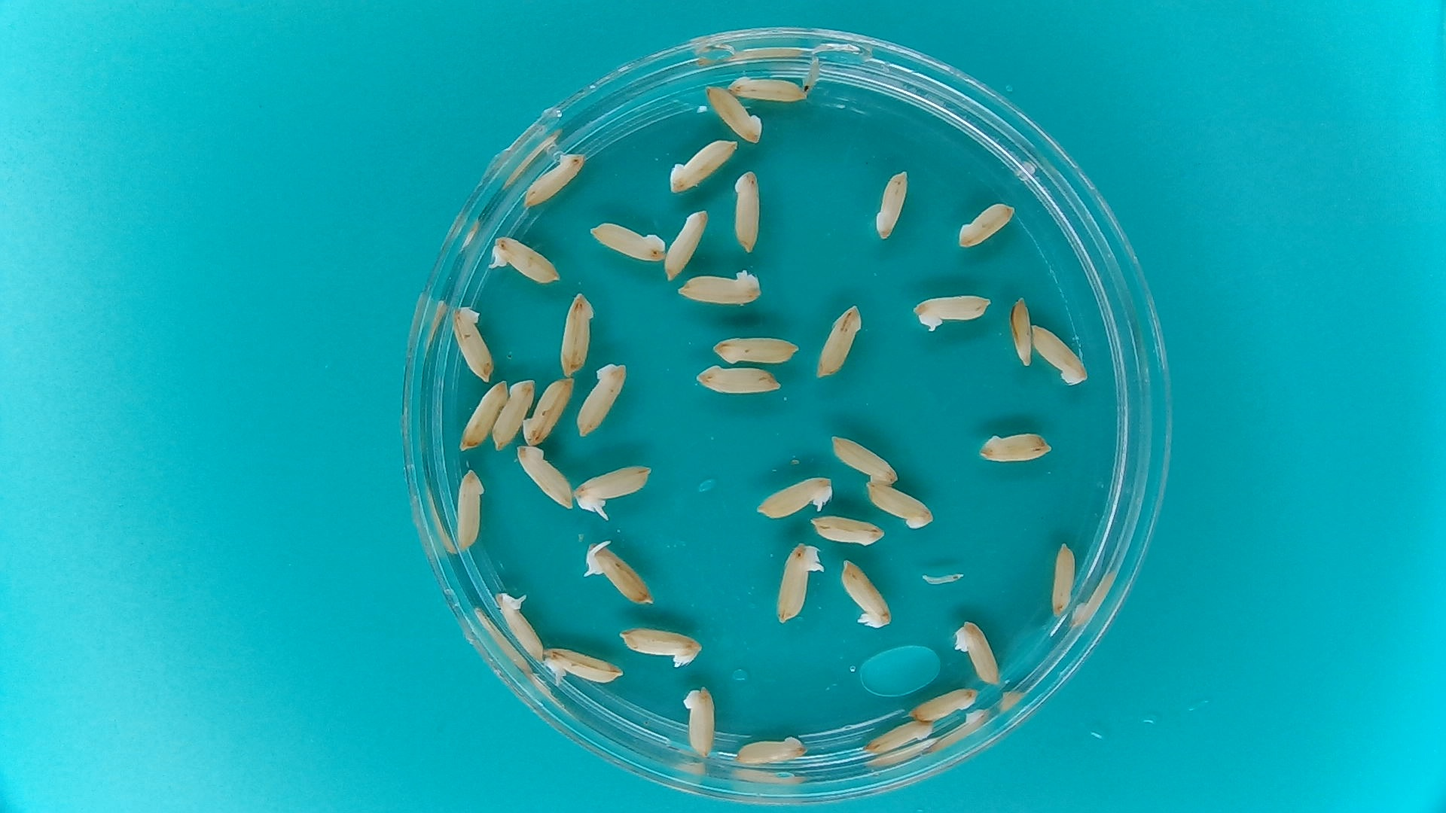no: (575, 362, 629, 438), (514, 444, 575, 511), (669, 139, 740, 196), (522, 377, 576, 449), (523, 149, 587, 209), (1030, 321, 1088, 387), (703, 82, 763, 145), (816, 302, 863, 382), (458, 379, 509, 452), (661, 209, 712, 282), (840, 558, 892, 629), (450, 306, 496, 383), (831, 433, 899, 485), (619, 626, 703, 668), (491, 378, 537, 453), (559, 288, 596, 379), (864, 482, 935, 529), (588, 221, 667, 263), (675, 269, 763, 305), (954, 620, 1000, 687), (860, 717, 935, 756), (914, 294, 993, 331), (956, 202, 1017, 248), (903, 686, 980, 722), (694, 364, 783, 394), (456, 467, 486, 554), (876, 167, 911, 241), (682, 685, 716, 760), (711, 336, 801, 364), (810, 514, 886, 547), (732, 169, 761, 254), (978, 430, 1052, 462), (727, 76, 808, 102), (734, 735, 809, 763), (1051, 541, 1076, 619), (1010, 292, 1033, 367)
yes: (583, 542, 654, 605), (491, 233, 562, 288), (575, 463, 649, 515), (493, 589, 545, 663), (776, 540, 821, 621), (755, 476, 836, 520), (542, 647, 624, 689)
